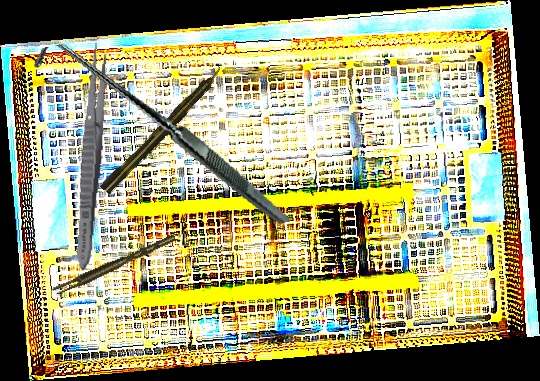Dressing Forceps: (72, 41, 110, 272)
Handpiece: (98, 63, 228, 196)
Hook Surgical: (30, 5, 291, 267)
Tissue Forceps: (50, 234, 179, 297)
